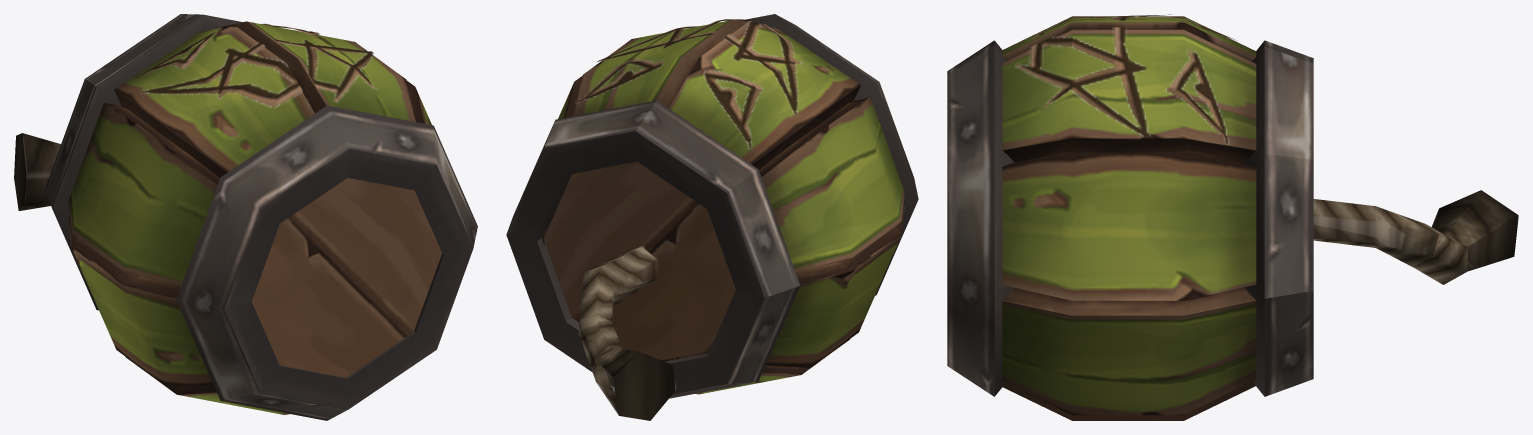
Rendered from bomb.glb.
3 renders of one model, left to right at view 1: azimuth 30°, elevation 25°; view 2: azimuth 150°, elevation 25°; view 3: azimuth 270°, elevation 25°, orthographic. The views are drawn at different scales.
Parts seen in each view (by area): view 1: Bomb; view 2: Bomb; view 3: Bomb.
Part boxes in pixels (x1,y1,x2,y2): Bomb: (14,14,477,420); Bomb: (506,14,918,420); Bomb: (947,14,1518,420).
Bounding box in the file's own units: 3.31 × 3.33 × 4.46.
1 material, 1 textured.
